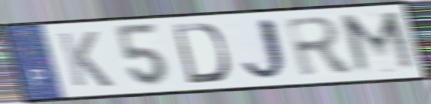5: (112, 22, 172, 91)
D: (170, 22, 232, 85)
J: (238, 16, 295, 83)
K: (54, 30, 116, 89)
M: (337, 9, 423, 77)
R: (281, 14, 359, 79)
